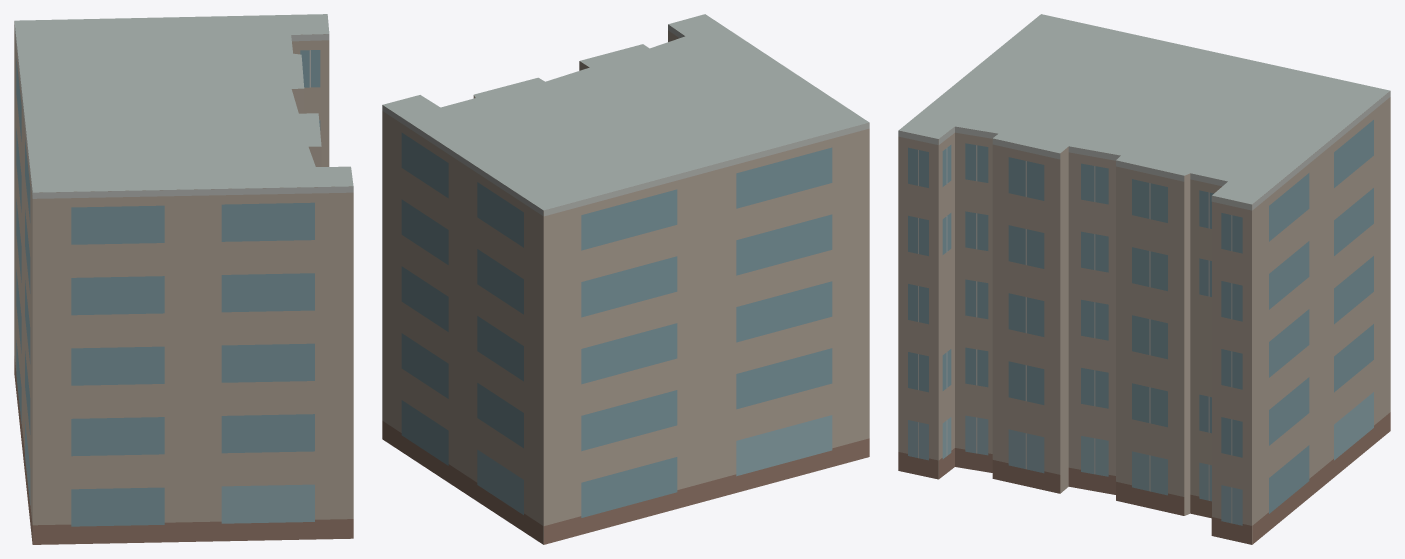
File: survey-upis-32711681.glb
The picture shows the model from 3 angles, left to right: view 1: azimuth 30°, elevation 25°; view 2: azimuth 150°, elevation 25°; view 3: azimuth 270°, elevation 25°; orthographic projection. The views are drawn at different scales.
Visible parts, largest first — view 1: survey-upis-32711681.tmp; view 2: survey-upis-32711681.tmp; view 3: survey-upis-32711681.tmp.
Part boxes in pixels (x1,y1,x2,y2): survey-upis-32711681.tmp: [14, 14, 353, 544]; survey-upis-32711681.tmp: [382, 14, 869, 544]; survey-upis-32711681.tmp: [898, 14, 1390, 544].
Size of the model in its own units: 16.34 by 13.6 by 17.83.
